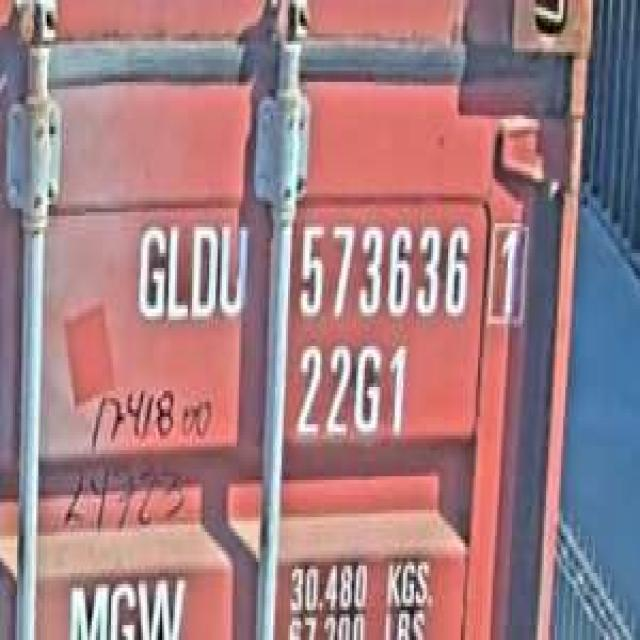dv: (484, 208, 534, 332)
owner: (130, 208, 252, 335)
serial: (292, 212, 474, 331)
size: (292, 335, 410, 450)
